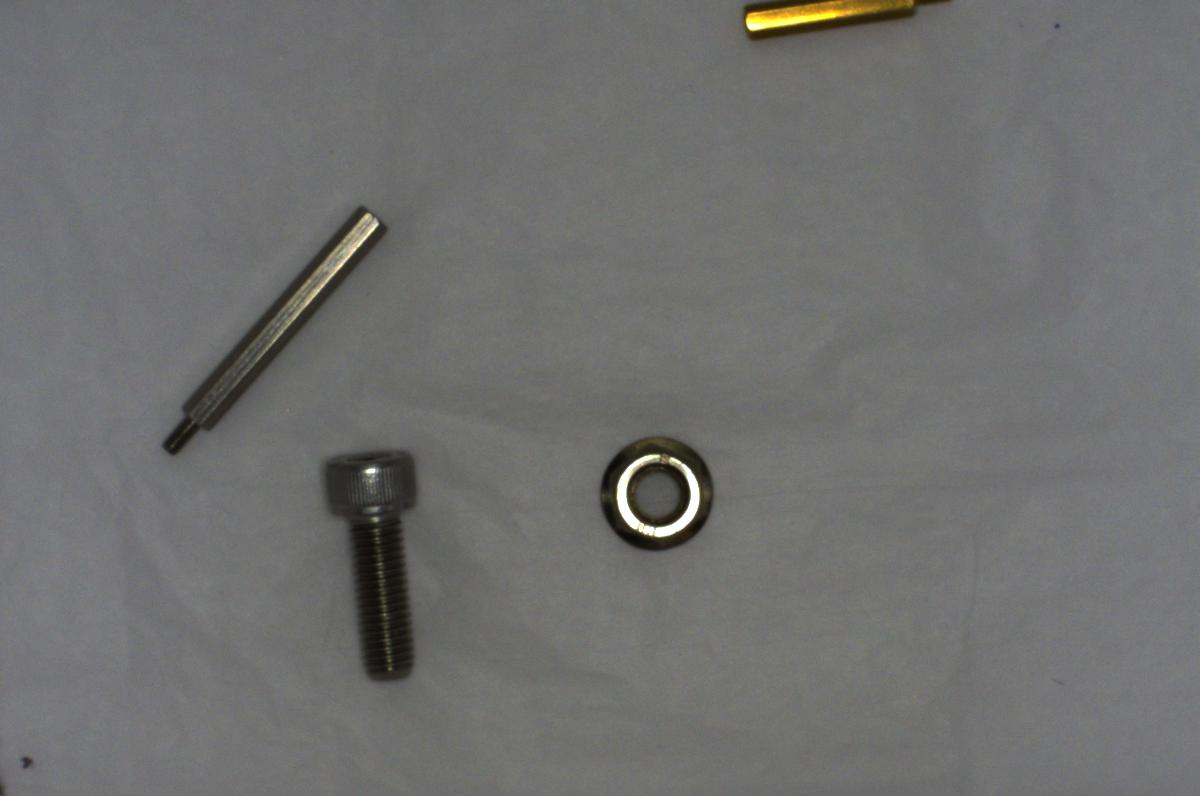Flange nut: (582, 427, 724, 554)
Hexagon pillar: (735, 2, 938, 43)
Hexagon screw: (319, 441, 444, 694)
Hexagonal steel column: (148, 198, 391, 461)
